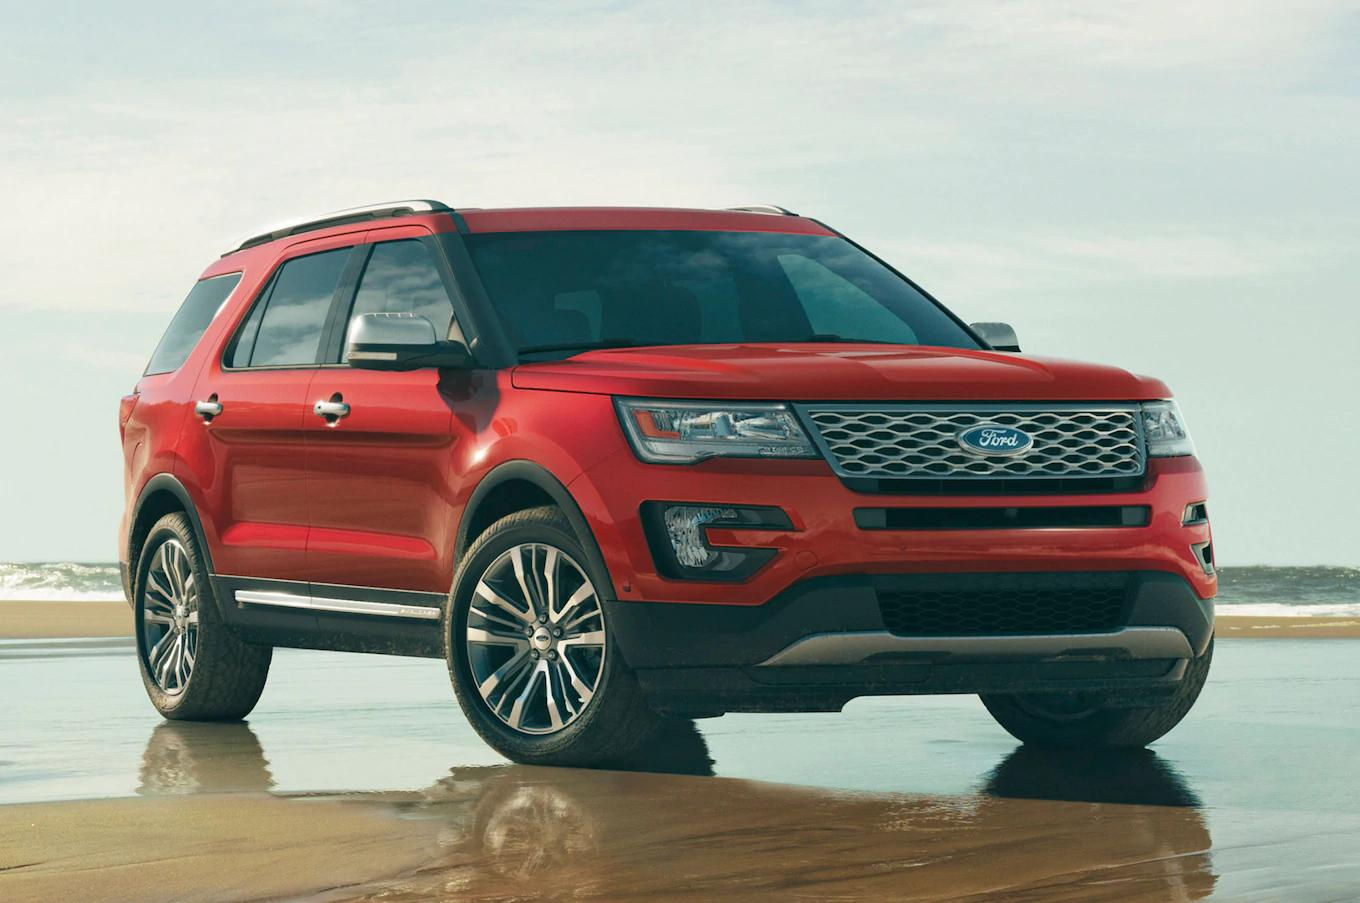Ford Explorer: (120, 199, 1222, 765)
